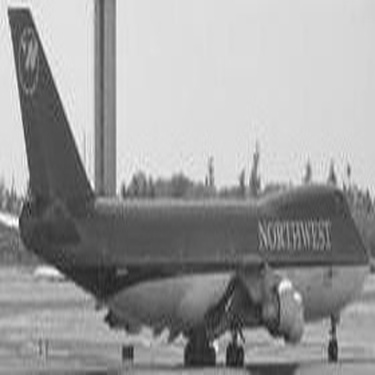airplane: (2, 1, 369, 372)
